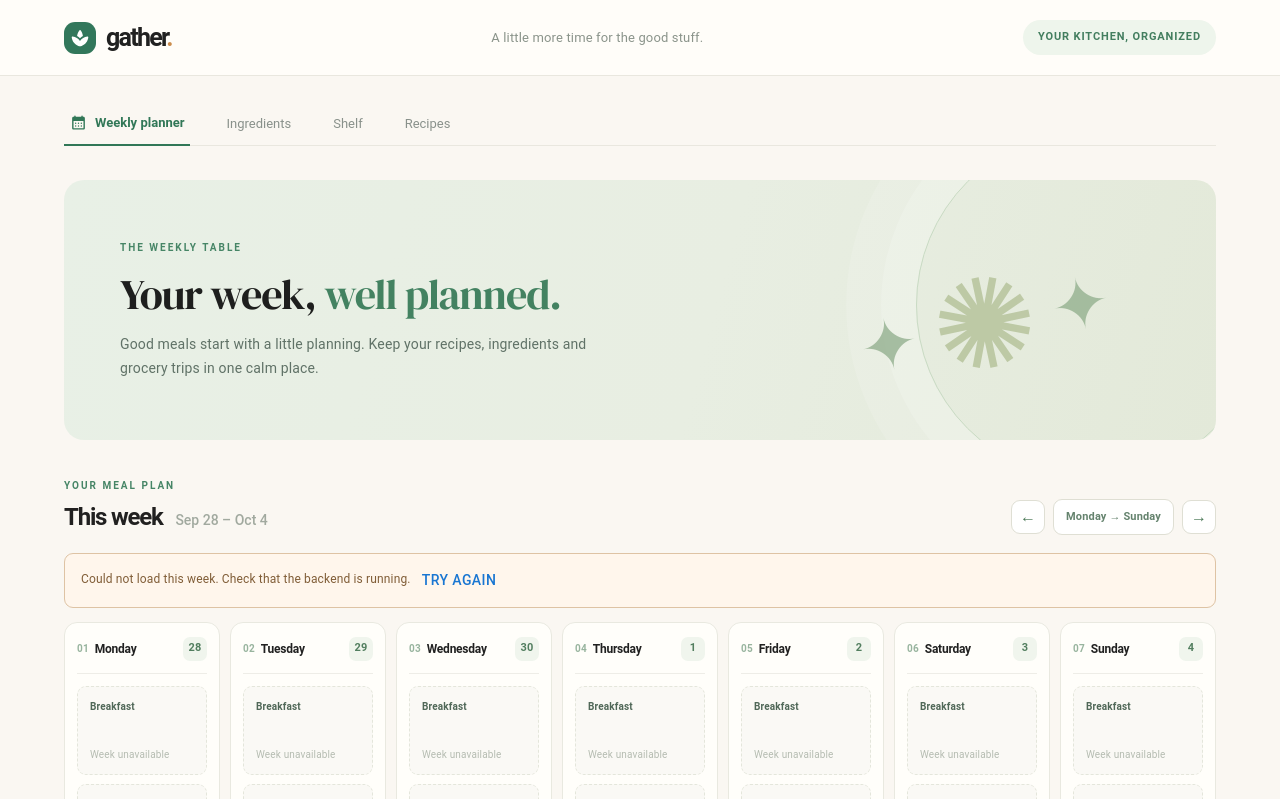
Test: weekly meal planner › reports a calendar API failure rather than showing an apparently empty week
Expected: the message shows "Could not load this week", top-left (81, 572), bottom-right (411, 586)
Click the button "Try again". click: (459, 580)
box: top-left (414, 562), bottom-right (504, 598)
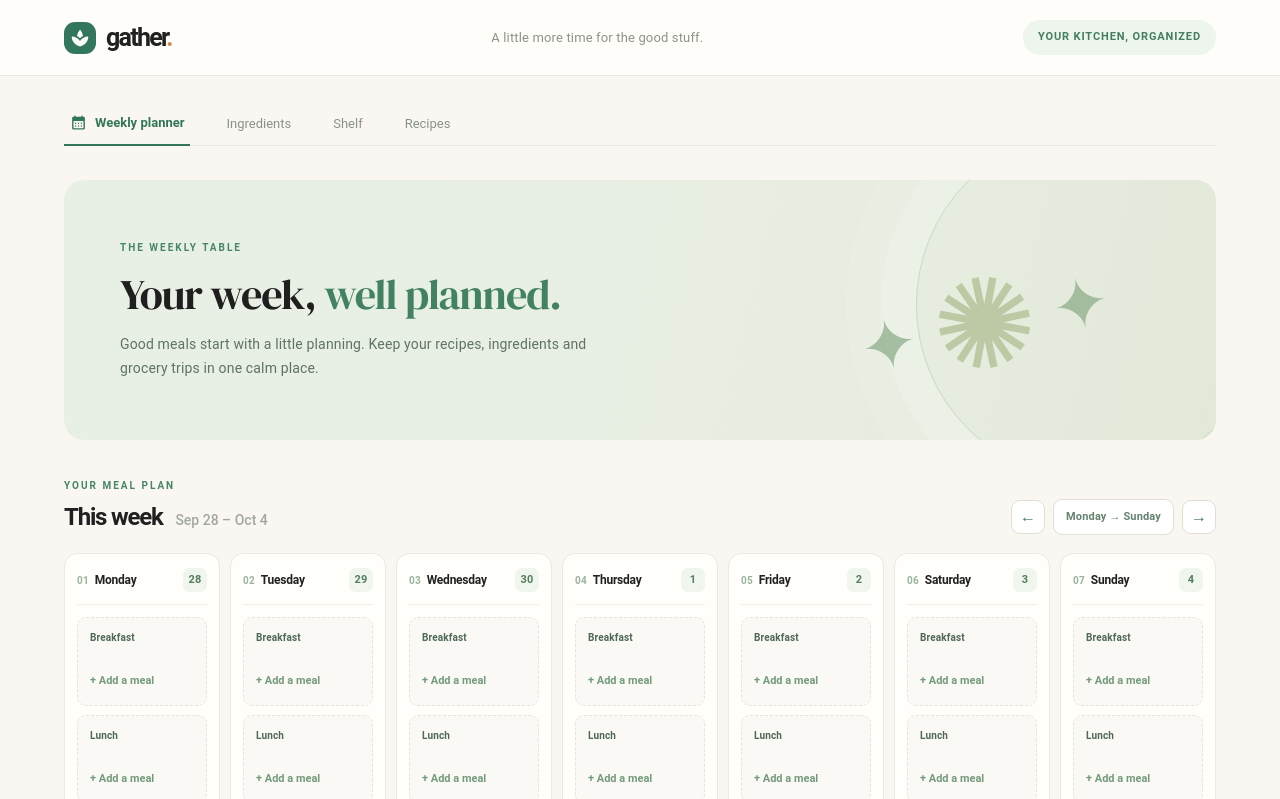
Expected: the button with aria-label "add breakfast on monday" is shown, top-left (90, 668), bottom-right (194, 693)
